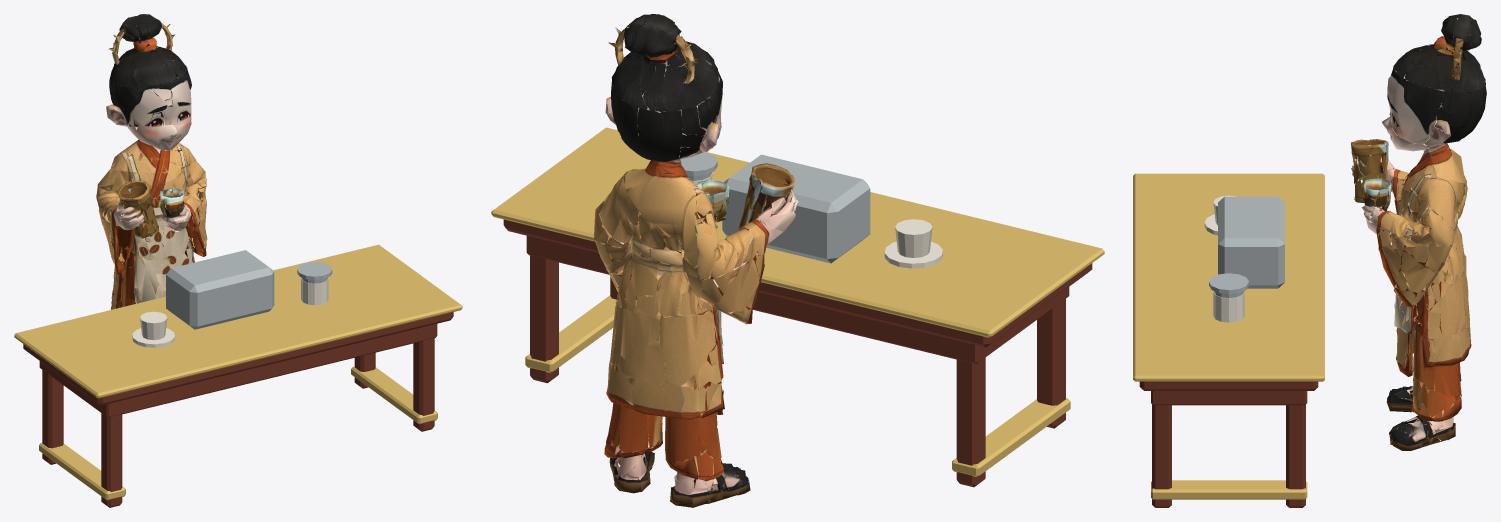
Rendered from brewing.glb.
3 renders of one model, left to right at view 1: azimuth 30°, elevation 25°; view 2: azimuth 150°, elevation 25°; view 3: azimuth 270°, elevation 25°, orthographic. The views are drawn at different scales.
Visible parts, largest first — view 1: table_brewing, god_brewing; view 2: table_brewing, god_brewing; view 3: table_brewing, god_brewing.
Boxes of the visible parts, x1,y1,x2,y2 form: table_brewing: [14, 244, 462, 507]; god_brewing: [96, 14, 207, 309]; table_brewing: [491, 127, 1104, 487]; god_brewing: [594, 14, 798, 507]; table_brewing: [1133, 173, 1324, 507]; god_brewing: [1351, 14, 1486, 450].
Bounding box in the file's own units: 2.16 × 2 × 1.58.
Materials: 5 (1 with a texture image).
